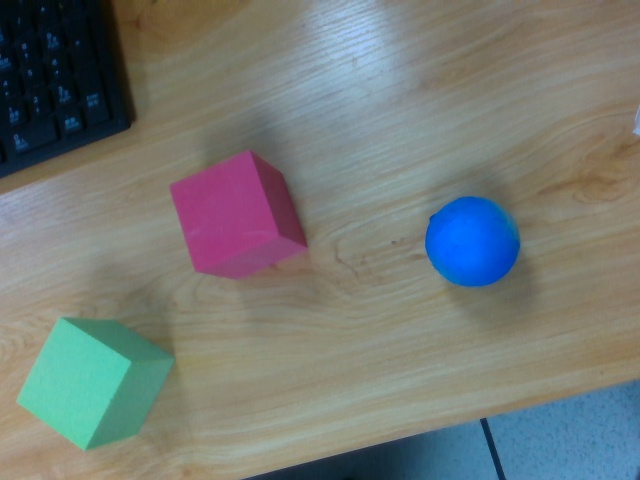blueball: (425, 192, 519, 288)
green: (17, 315, 175, 453)
red: (168, 151, 308, 278)
